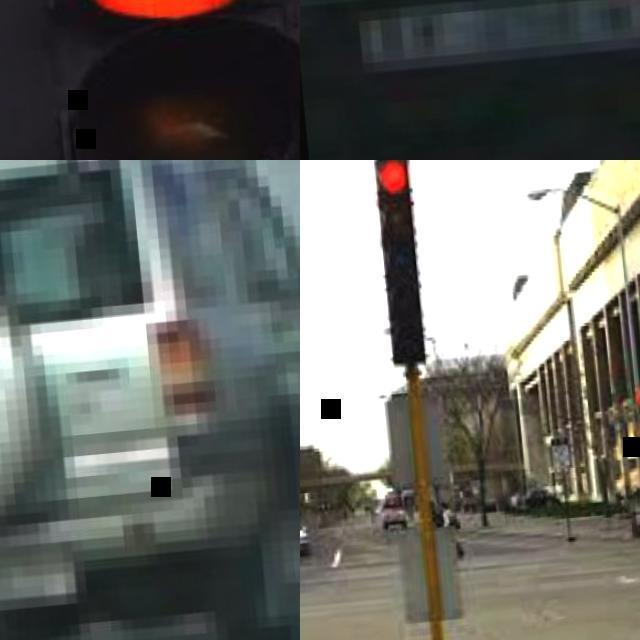car: (0, 167, 303, 628)
